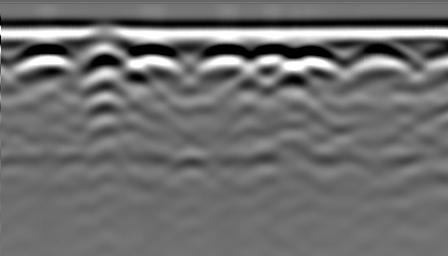pipe: (88, 27, 126, 53)
steel: (350, 43, 414, 77), (14, 43, 75, 74), (291, 44, 339, 75), (200, 47, 244, 76), (135, 46, 181, 73)
